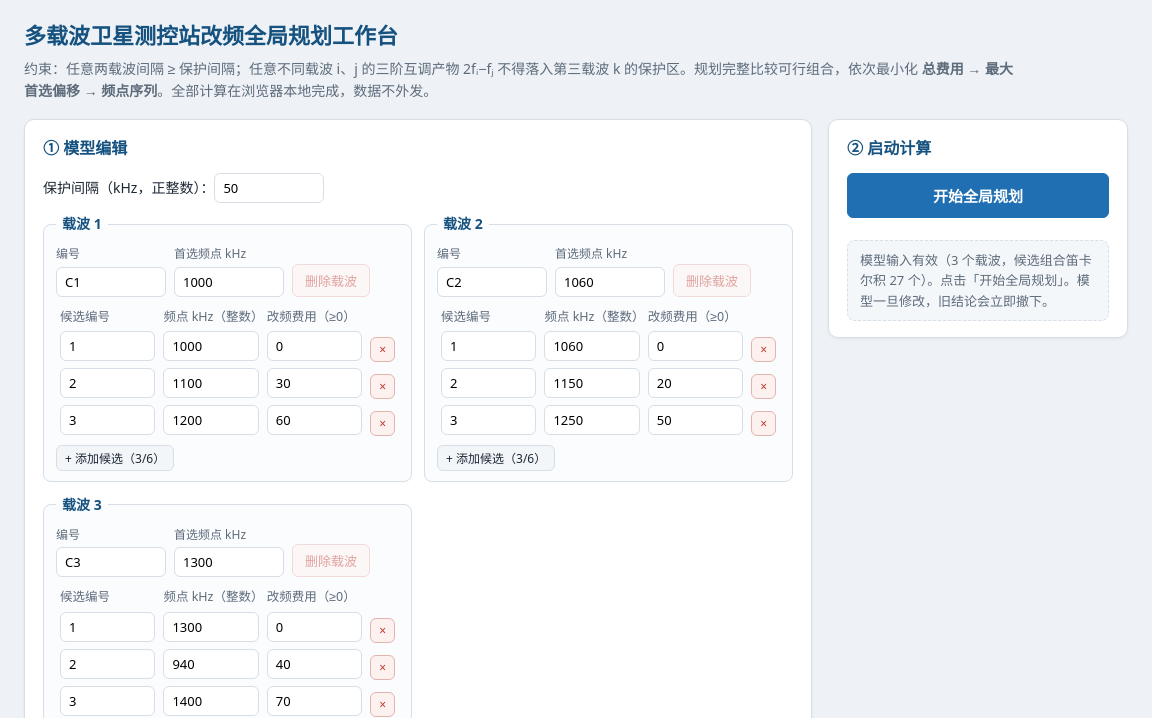
Scenario: 工作台交互流程 › 过期的 worker 回包被修订号作废，不会覆盖新结论
This screenshot has width=1152, height=718.
Click the button "开始全局规划". click: click(978, 196)
box: x1=847 y1=173 x2=1109 y2=218
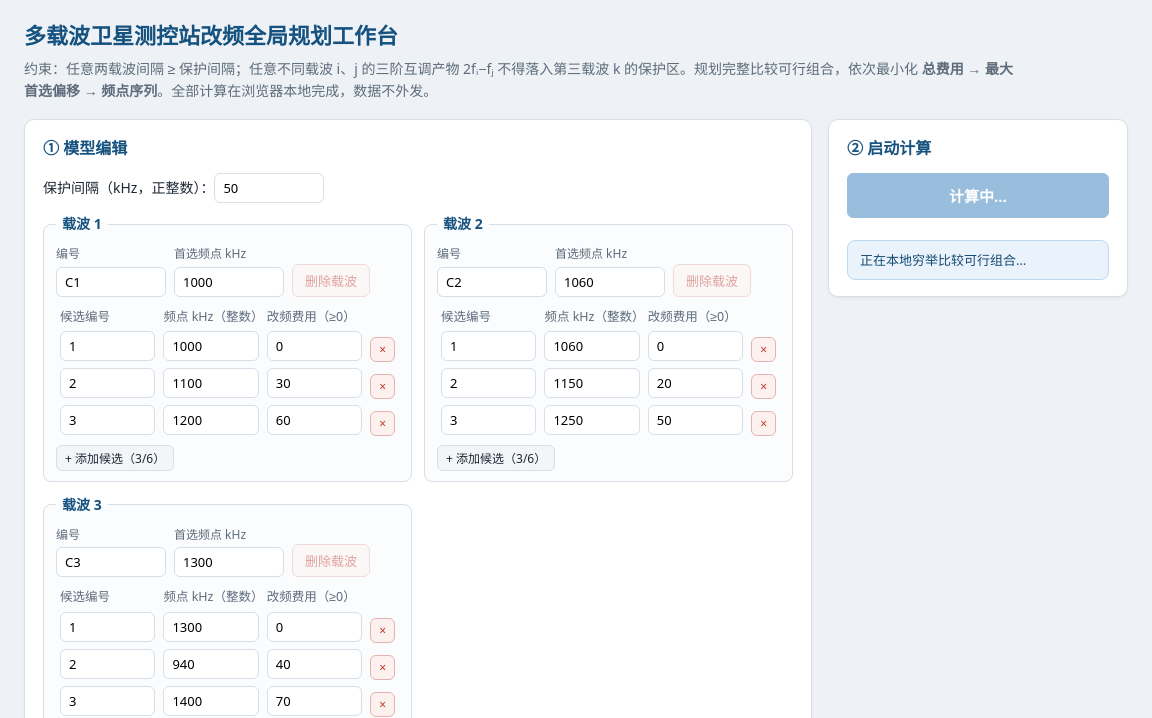
Check: the text "正在本地穷举比较可行组合…" is shown, box x1=847 y1=240 x2=1109 y2=280
Replace the text in the number field labelled "保护间隔（kHz，正整数）：" with "60". click: (269, 188)
box: x1=214 y1=173 x2=324 y2=203
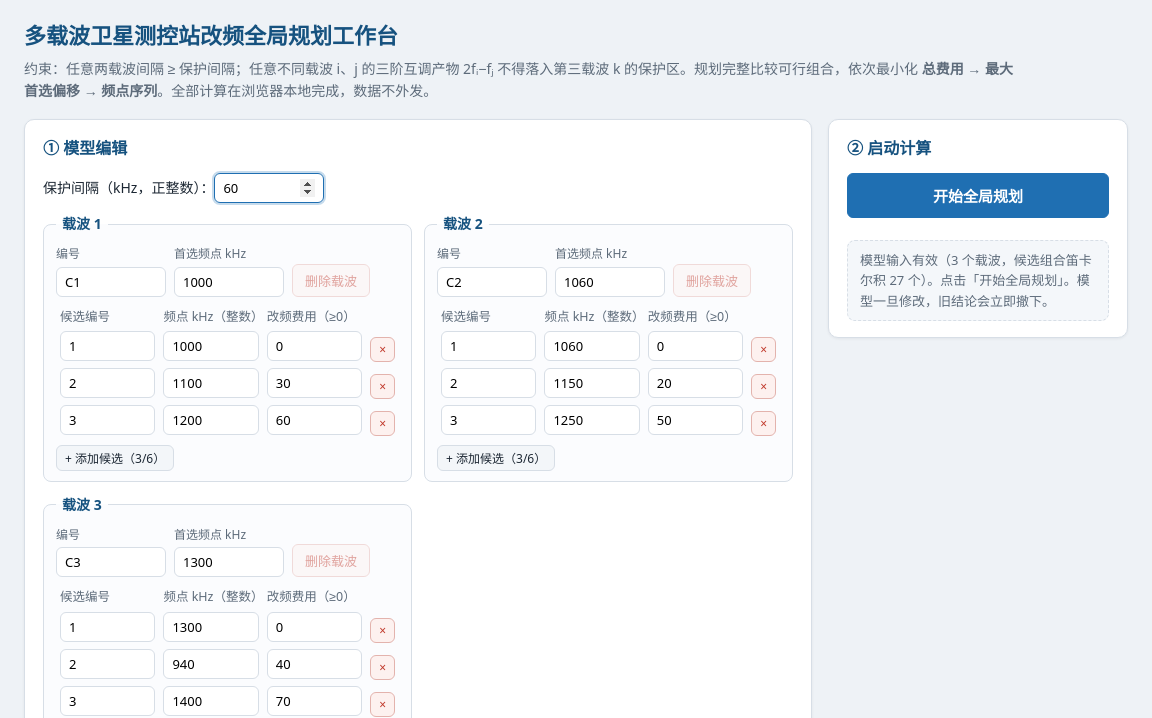
Check: the text "穷举比较" is not shown
Click the button "开始全局规划". click: click(978, 196)
box: x1=847 y1=173 x2=1109 y2=218
(page scrolled)
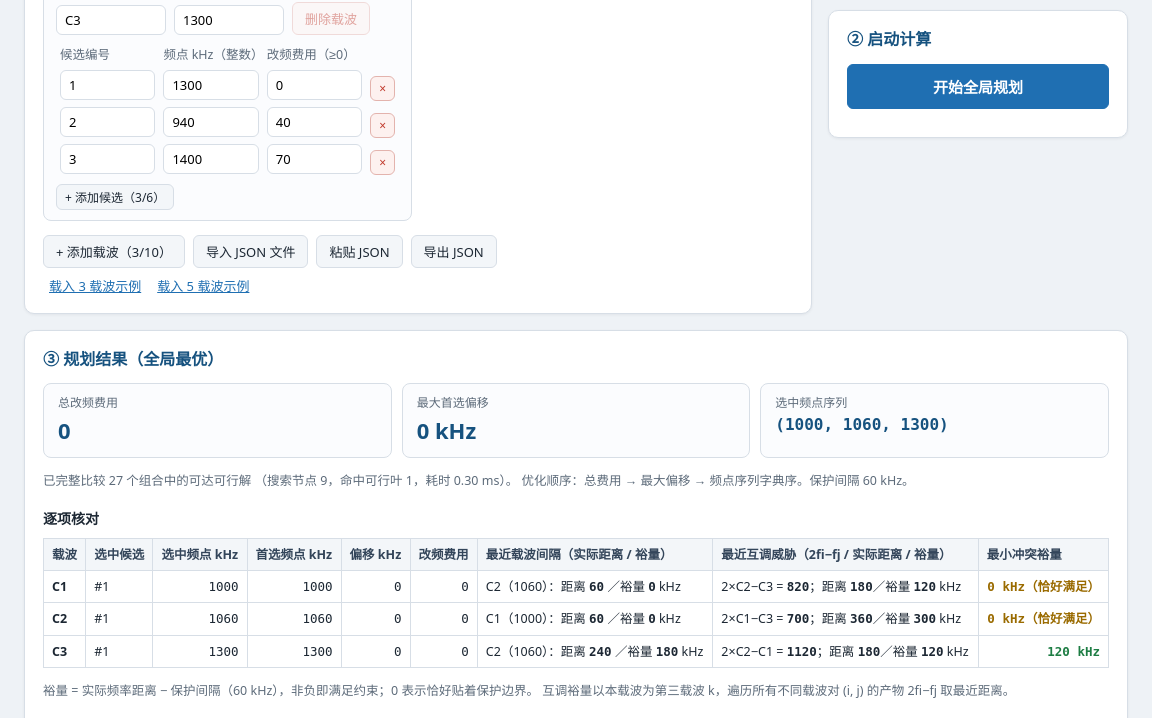
Check: the heading "③ 规划结果（全局最优）" is shown, box x1=43 y1=348 x2=223 y2=370
